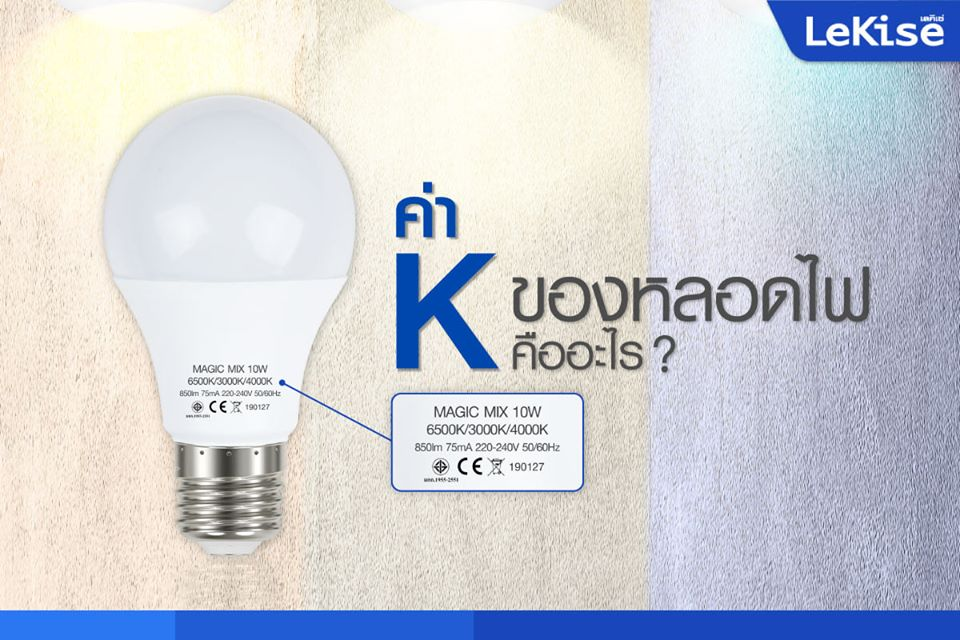Light_bulb: (85, 88, 375, 572)
